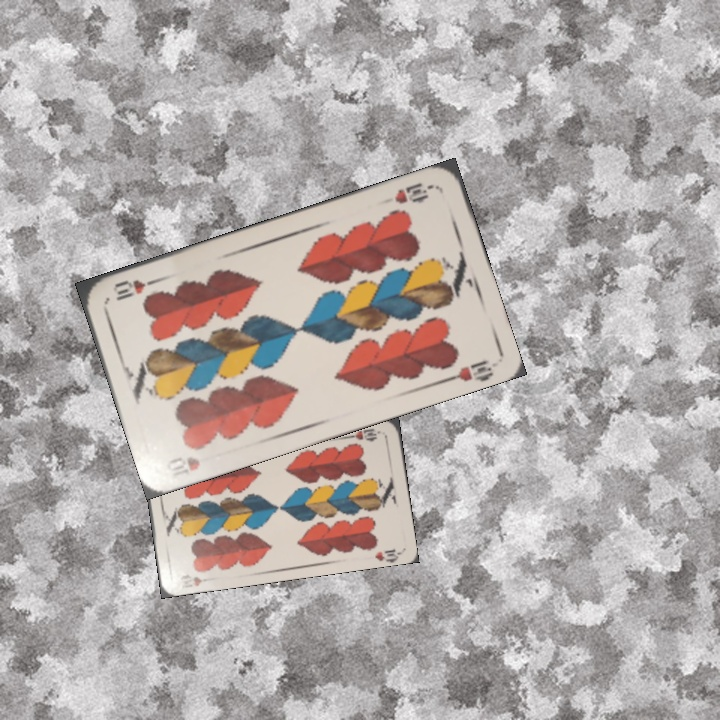H10: (390, 178, 436, 207), (162, 452, 203, 476), (344, 424, 384, 443), (177, 571, 215, 589)
